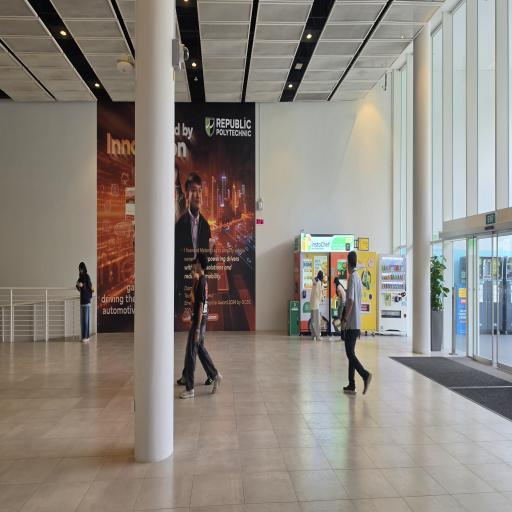person_left: (343, 248, 374, 400), (188, 246, 212, 398), (70, 249, 95, 347), (180, 255, 198, 388)
